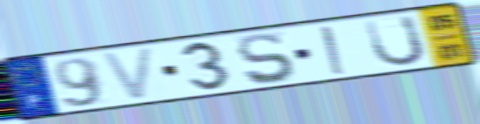3: (180, 39, 233, 95)
9: (54, 55, 106, 108)
I: (318, 24, 350, 77)
S: (234, 31, 298, 87)
U: (362, 13, 428, 69)
V: (98, 44, 158, 103)
